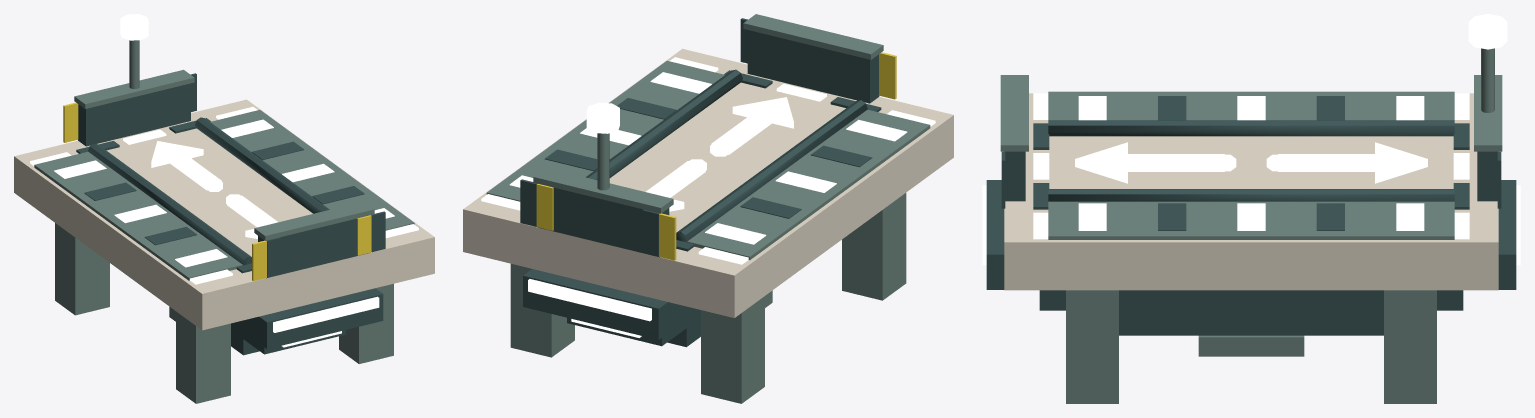
File: Deck_Ferry_v4_2_lab.glb
3 renders of one model, left to right at view 1: azimuth 30°, elevation 25°; view 2: azimuth 150°, elevation 25°; view 3: azimuth 270°, elevation 25°, orthographic. The views are drawn at different scales.
Parts seen in each view (by area): view 1: Deck_Ferry_v4_2; view 2: Deck_Ferry_v4_2; view 3: Deck_Ferry_v4_2.
Part boxes in pixels (box(x1,y1,x2,y2)): Deck_Ferry_v4_2: box(14, 14, 434, 403); Deck_Ferry_v4_2: box(463, 14, 953, 403); Deck_Ferry_v4_2: box(982, 14, 1520, 403).
Size of the model in its own units: 2 by 1.99 by 3.05.
